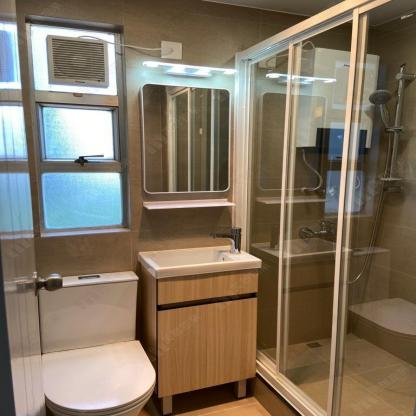Exhaust Fan: (44, 35, 108, 89)
Faucet: (209, 225, 244, 253)
Toilet: (38, 270, 156, 416)
Toilet Sink: (138, 245, 262, 279)
